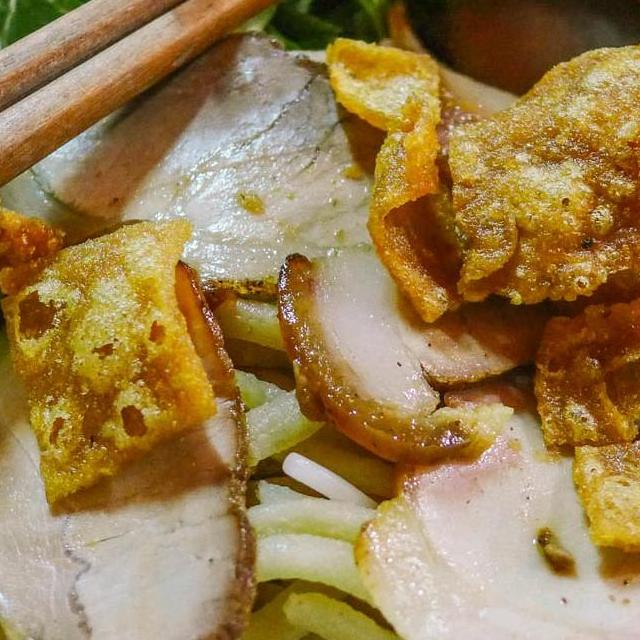banh da: (314, 30, 568, 328), (0, 210, 220, 512), (431, 33, 640, 304), (529, 162, 640, 461), (561, 369, 640, 554)
mi: (187, 279, 473, 640)
mi quang: (0, 0, 640, 640)
thit heo: (0, 22, 395, 311), (0, 255, 263, 640), (343, 341, 640, 640), (262, 230, 562, 470)
